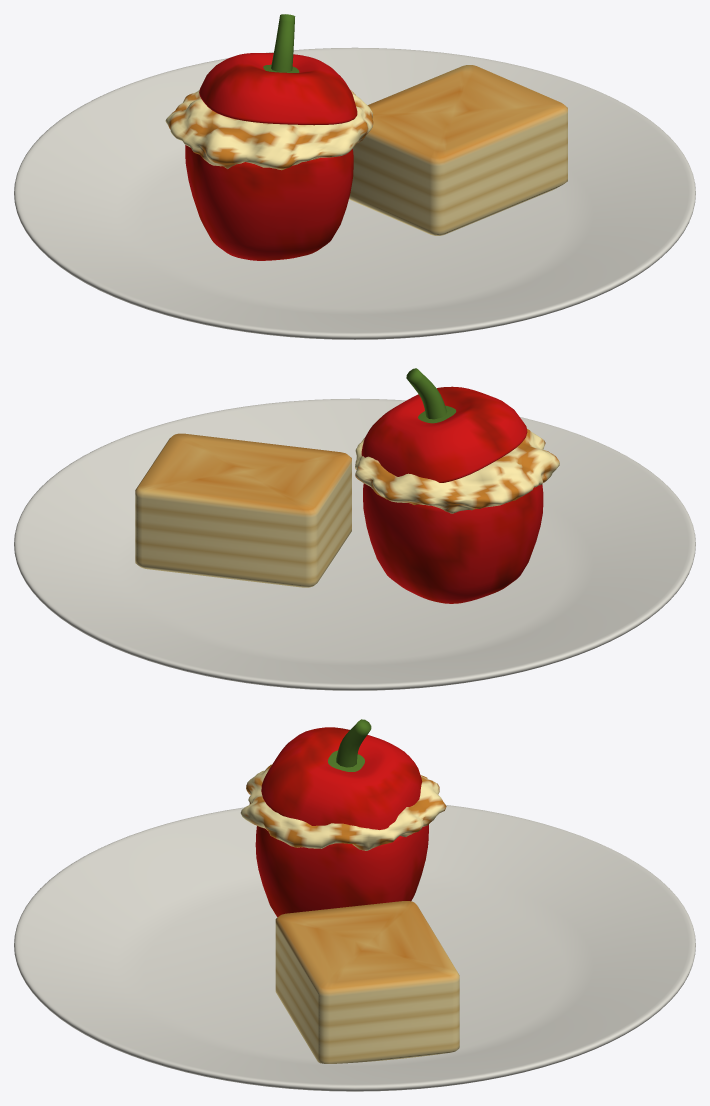
The model's file is paso-5.glb.
3 renders of one model, top to bottom at view 1: azimuth 30°, elevation 25°; view 2: azimuth 150°, elevation 25°; view 3: azimuth 270°, elevation 25°, orthographic.
Visible parts, largest first — view 1: paso-5-0, paso-5-6, paso-5-1, paso-5-3, paso-5-2, paso-5-4; view 2: paso-5-0, paso-5-6, paso-5-1, paso-5-3, paso-5-2, paso-5-4; view 3: paso-5-0, paso-5-6, paso-5-3, paso-5-1, paso-5-2, paso-5-4.
Boxes of the visible parts, x1,y1,x2,y2 form: paso-5-0: (14,47,695,339); paso-5-6: (349,65,567,235); paso-5-1: (185,145,353,260); paso-5-3: (199,53,357,125); paso-5-2: (165,89,373,170); paso-5-4: (271,14,295,72); paso-5-0: (14,398,695,690); paso-5-6: (135,433,351,587); paso-5-1: (363,483,543,603); paso-5-3: (361,386,527,482); paso-5-2: (355,429,559,513); paso-5-4: (406,368,447,419); paso-5-0: (14,805,695,1091); paso-5-6: (275,901,459,1063); paso-5-3: (261,727,422,829); paso-5-1: (255,824,428,917); paso-5-2: (240,764,446,850); paso-5-4: (336,719,371,767).
Bounding box in the file's own units: 0.27 × 0.1019 × 0.27.
